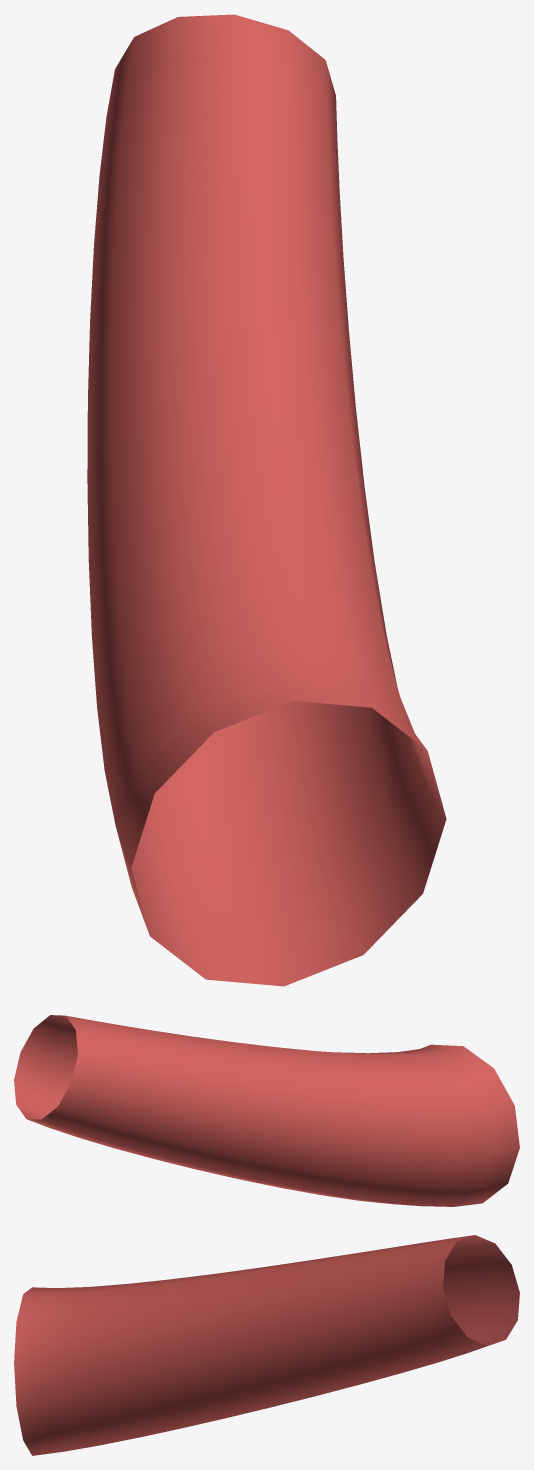
3 renders of one model, top to bottom at view 1: azimuth 30°, elevation 25°; view 2: azimuth 150°, elevation 25°; view 3: azimuth 270°, elevation 25°, orthographic. The views are drawn at different scales.
Parts seen in each view (by area): view 1: 左侧髂总动脉; view 2: 左侧髂总动脉; view 3: 左侧髂总动脉.
Boxes of the visible parts, <box> form: 左侧髂总动脉: <box>87,14,446,986</box>; 左侧髂总动脉: <box>14,1015,519,1206</box>; 左侧髂总动脉: <box>14,1235,519,1455</box>.
Size of the model in its own units: 0.0552 by 0.0512 by 0.0791.
